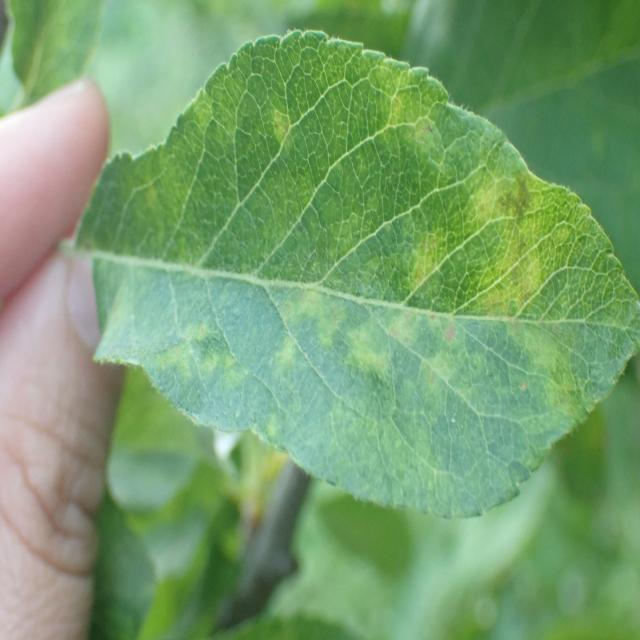scab: (101, 96, 633, 469)
